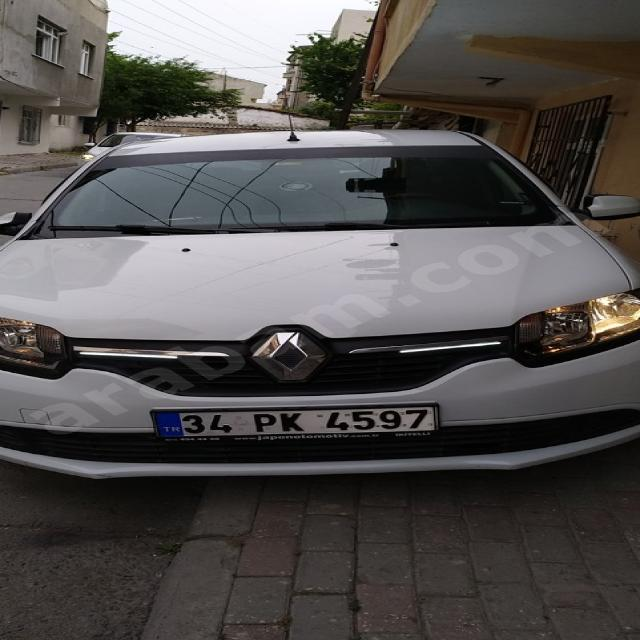license_plate: (153, 406, 438, 437)
